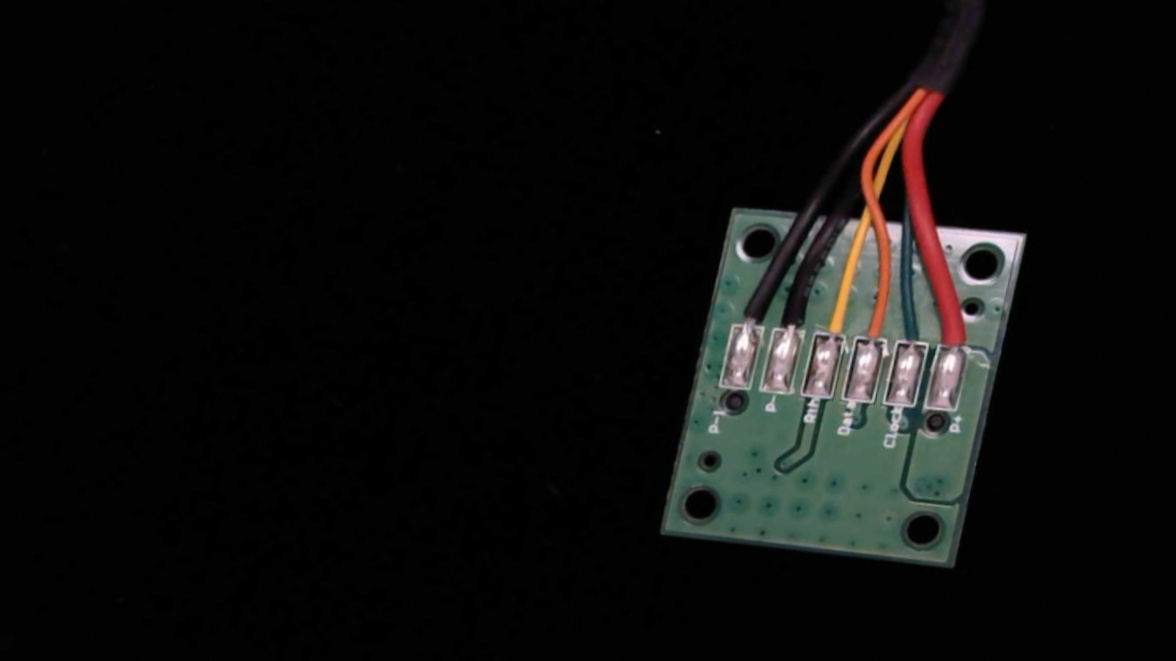Black: (768, 274, 823, 351)
Black1: (726, 272, 778, 344)
Green: (889, 305, 937, 365)
Orange: (849, 292, 899, 359)
Red: (926, 298, 980, 373)
Yellow: (810, 276, 865, 354)
